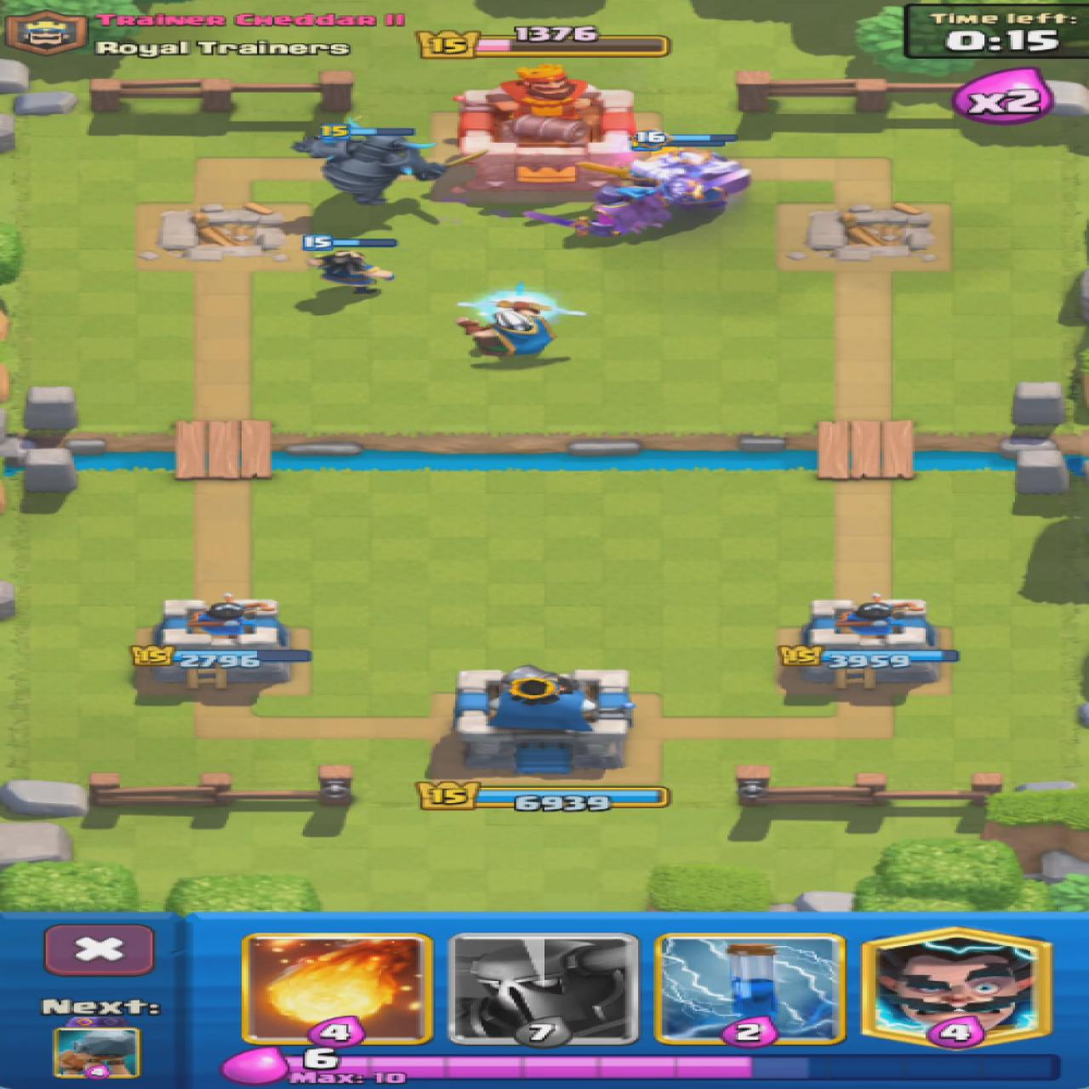Enemy-KingTower-Activated: (457, 62, 636, 195)
